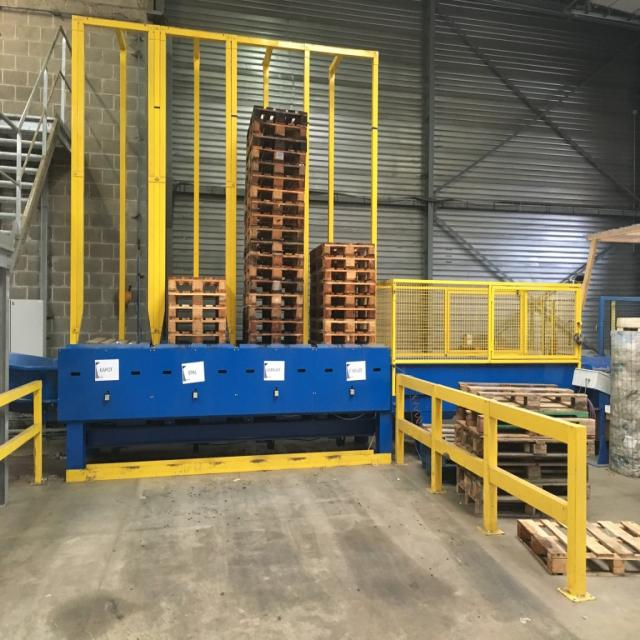Palette: (458, 379, 588, 526), (243, 98, 309, 346), (512, 512, 640, 580), (312, 238, 380, 347), (167, 272, 231, 346), (416, 418, 459, 486)
